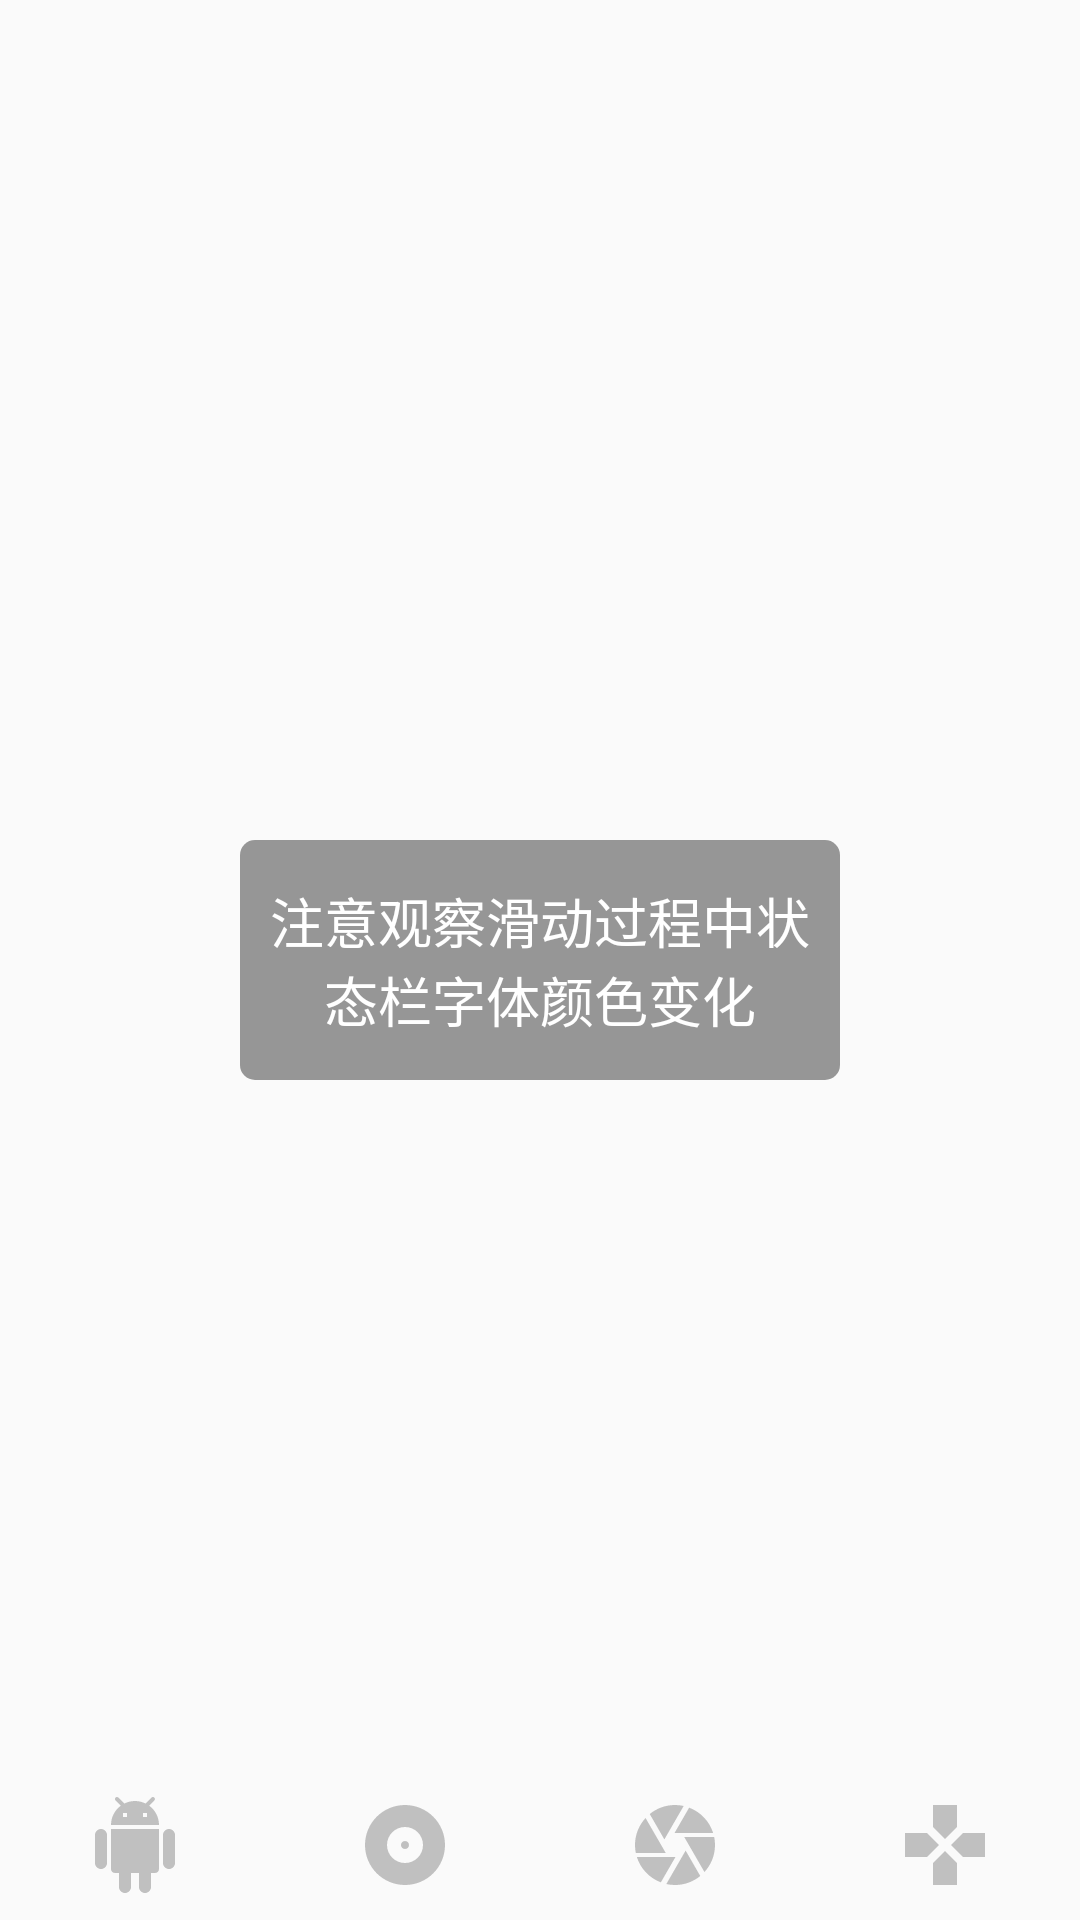

Screen size 1080 x 1920. Icon name, then its box in pixels as box(x1, y1, x2, y2):
album sliver: box(365, 1805, 445, 1885)
camera sliver: box(635, 1805, 715, 1885)
games sliver: box(905, 1805, 985, 1885)
